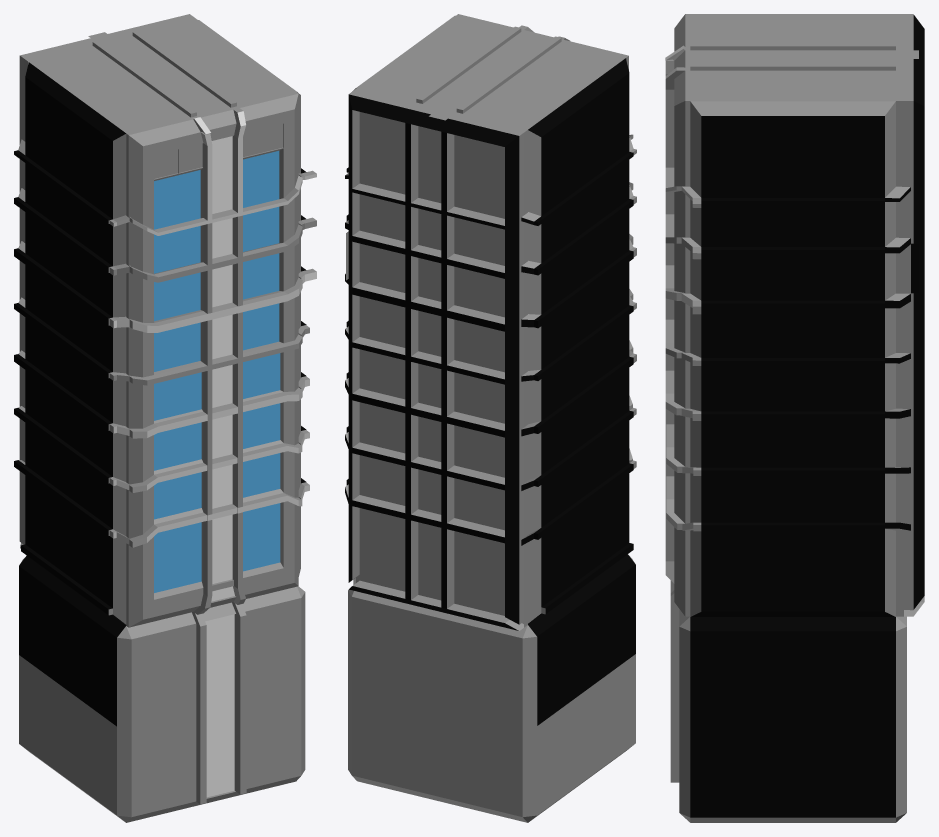
File: mrocznywiezowiecv2.fbx
The picture shows the model from 3 angles, left to right: view 1: azimuth 30°, elevation 25°; view 2: azimuth 150°, elevation 25°; view 3: azimuth 270°, elevation 25°; orthographic projection. The views are drawn at different scales.
Parts seen in each view (by area): view 1: Cube; view 2: Cube; view 3: Cube.
Part boxes in pixels (left/top/right/bottom): Cube: left=14, top=14, right=316, bottom=822; Cube: left=345, top=14, right=636, bottom=822; Cube: left=665, top=14, right=924, bottom=822.
Bounding box in the file's own units: 4477 × 14541 × 4702.
